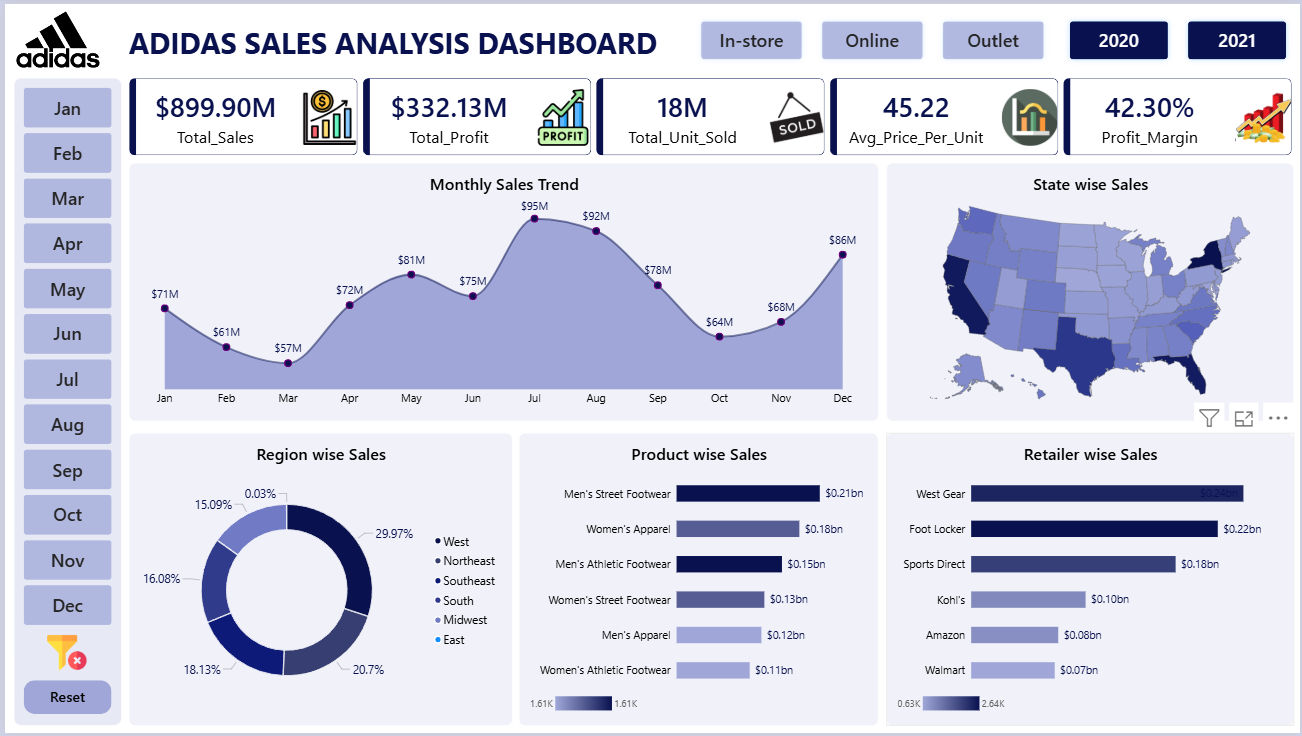

Layout of this report page (visuals, bound fields, positions):
{"tool":"powerbi","page":{"name":"Page 1","canvas":[1920,1080],"ordinal":0},"visuals":[{"type":"cardVisual","fields":{"Data":["Data Sales Adidas.Total_Sales","Data Sales Adidas.Total_Profit","Data Sales Adidas.Total_Unit_Sold","Data Sales Adidas.Avg_Price_Per_Unit","Data Sales Adidas.Profit_Margin"]},"box":[182.5,108.8,1727.5,116.2],"z":0},{"type":"image","box":[0,11.4,157.1,82.9],"z":1000},{"type":"textbox","box":[182.9,27.1,808.6,67.1],"z":2000},{"type":"shape","box":[12.9,108.6,160,960],"z":3000},{"type":"areaChart","title":"Monthly Sales Trend","fields":{"Category":["Data Sales Adidas.Month"],"Y":["Data Sales Adidas.Total_Sales"]},"box":[182.9,234.3,1111.4,382.9],"z":4000},{"type":"shapeMap","title":"State wise Sales","fields":{"Category":["Data Sales Adidas.State"],"Value":["Data Sales Adidas.Total_Sales"]},"box":[1305.7,234.3,604.3,382.9],"z":4001},{"type":"donutChart","title":"Region wise Sales","fields":{"Category":["Data Sales Adidas.Region"],"Y":["Data Sales Adidas.Total_Sales"]},"box":[182.9,634.3,568.6,434.3],"z":4002},{"type":"clusteredBarChart","title":"Product wise Sales","fields":{"Category":["Data Sales Adidas.Product"],"Y":["Data Sales Adidas.Total_Sales"]},"box":[761.4,634.3,532.9,434.3],"z":4003},{"type":"clusteredBarChart","title":"Retailer wise Sales","fields":{"Category":["Data Sales Adidas.Retailer"],"Y":["Data Sales Adidas.Total_Sales"]},"box":[1305.7,634.3,604.3,434.3],"z":4004},{"type":"advancedSlicerVisual","fields":{"Values":["Data Sales Adidas.Sales Method"]},"box":[1020,15.7,530,78.6],"z":4005},{"type":"advancedSlicerVisual","fields":{"Values":["Data Sales Adidas.Invoice Date.Variation.Date Hierarchy.Year"]},"box":[1567.1,15.7,342.9,78.6],"z":4006},{"type":"advancedSlicerVisual","fields":{"Values":["Data Sales Adidas.Month"]},"box":[27.1,124.3,130,807.1],"z":4007},{"type":"image","box":[60,931.4,64.3,58.6],"z":4008},{"type":"actionButton","box":[27.1,1001.4,130,50],"z":4009}]}

Visuals, with their boxes in screenshot pixels (x1, y1, x2, y2), scaled from the page's 1920x1080 canvas onto the 1302x736 screenshot:
cardVisual - Data Sales Adidas.Total_Sales x Data Sales Adidas.Total_Profit: [x1=124, y1=74, x2=1295, y2=153]
image: [x1=0, y1=8, x2=107, y2=64]
textbox: [x1=124, y1=18, x2=672, y2=64]
shape: [x1=9, y1=74, x2=117, y2=728]
"Monthly Sales Trend" areaChart: [x1=124, y1=160, x2=878, y2=421]
"State wise Sales" shapeMap: [x1=885, y1=160, x2=1295, y2=421]
"Region wise Sales" donutChart: [x1=124, y1=432, x2=510, y2=728]
"Product wise Sales" clusteredBarChart: [x1=516, y1=432, x2=878, y2=728]
"Retailer wise Sales" clusteredBarChart: [x1=885, y1=432, x2=1295, y2=728]
advancedSlicerVisual - Data Sales Adidas.Sales Method: [x1=692, y1=11, x2=1051, y2=64]
advancedSlicerVisual - Data Sales Adidas.Invoice Date.Variation.Date Hierarchy.Year: [x1=1063, y1=11, x2=1295, y2=64]
advancedSlicerVisual - Data Sales Adidas.Month: [x1=18, y1=85, x2=107, y2=635]
image: [x1=41, y1=635, x2=84, y2=675]
actionButton: [x1=18, y1=682, x2=107, y2=717]
